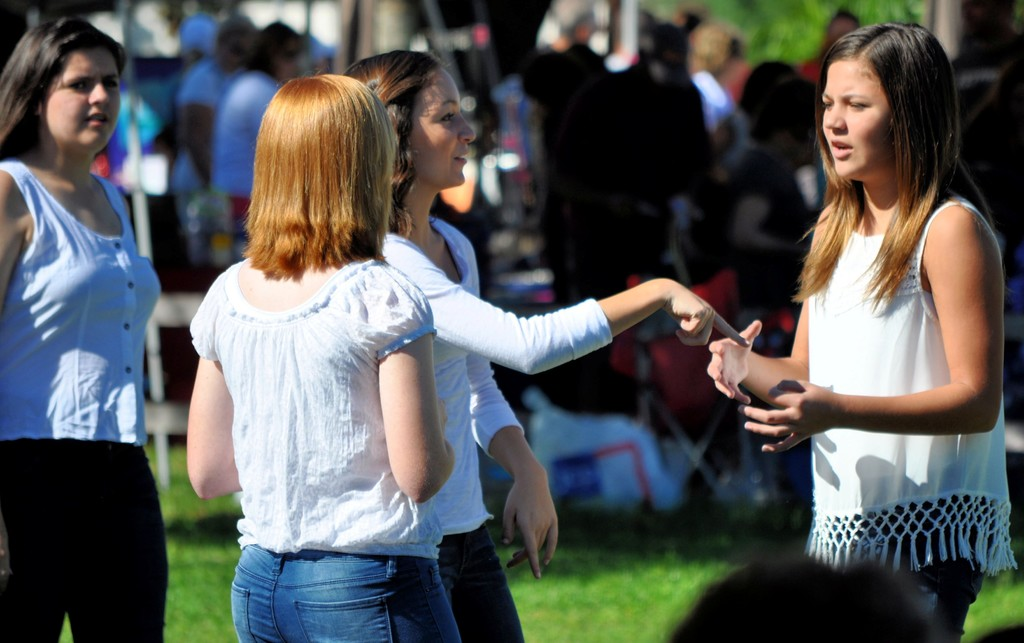Human_hand: (735, 377, 839, 455), (706, 333, 792, 414), (499, 476, 560, 583), (666, 279, 753, 350)
